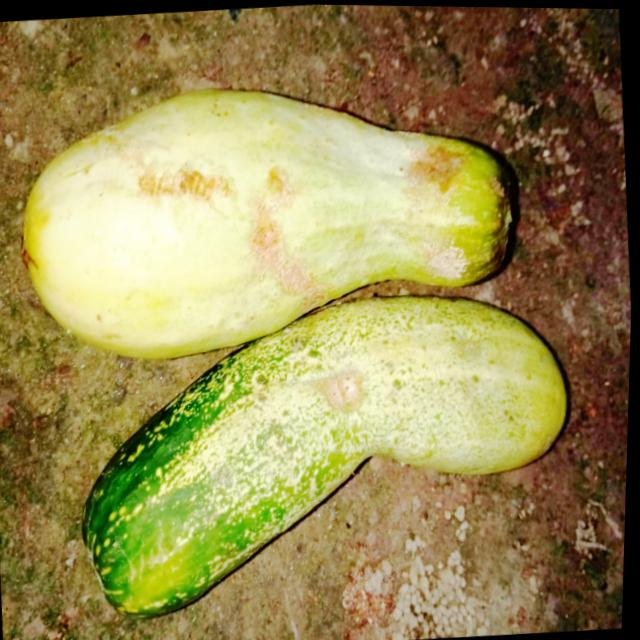Belly-Rot: (128, 138, 335, 329), (399, 131, 495, 293), (312, 359, 381, 426)
